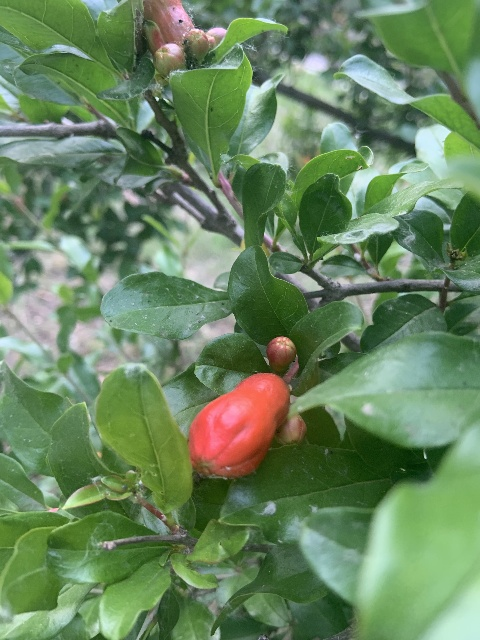bud: (188, 371, 290, 479), (152, 42, 186, 76), (266, 336, 296, 374), (274, 413, 307, 445), (183, 28, 209, 66)
